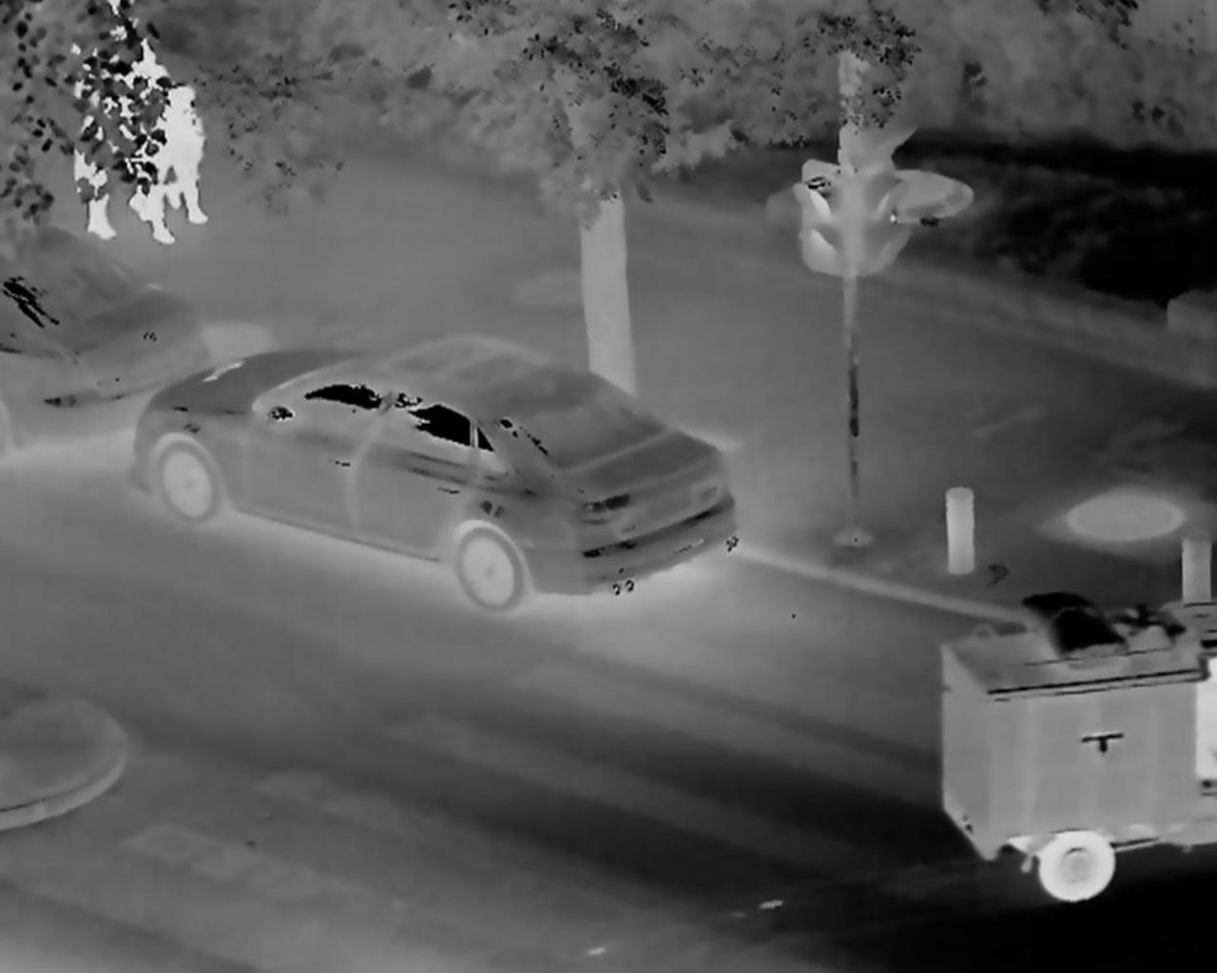person: (70, 2, 145, 235), (142, 50, 200, 229)
